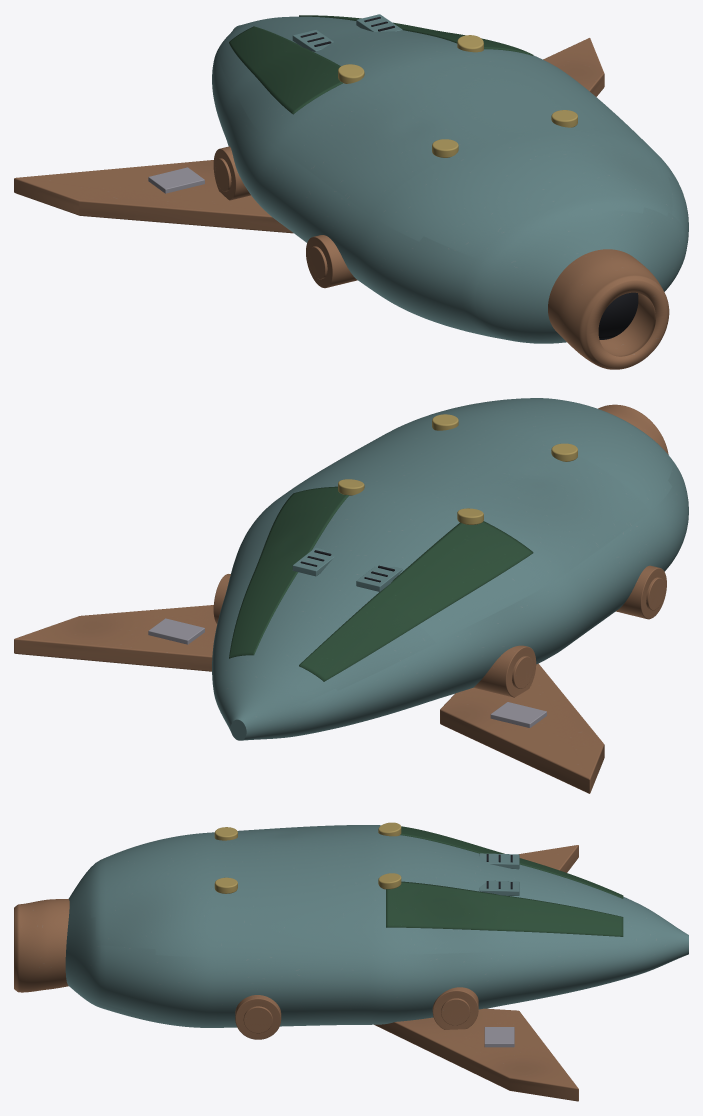
The picture shows the model from 3 angles, top to bottom: view 1: azimuth 30°, elevation 25°; view 2: azimuth 150°, elevation 25°; view 3: azimuth 270°, elevation 25°; orthographic projection. The views are drawn at different scales.
Parts seen in each view (by area): view 1: Messier-Lukannon flattened slate hull, Messier-Lukannon copper ventral wing -1, Messier-Lukannon copper terminal, RI2C green aft body field -1, Messier-Lukannon copper ventral wing 1, Messier-Lukannon side boss bezel -1 0, RI2C recessed dark terminal face, RI2C green aft body field 1, Messier-Lukannon ventral wing pad -1, Messier-Lukannon side boss bezel -1 1; view 2: Messier-Lukannon flattened slate hull, RI2C green aft body field -1, Messier-Lukannon copper ventral wing -1, Messier-Lukannon copper ventral wing 1, RI2C green aft body field 1, Messier-Lukannon side boss bezel -1 1, Messier-Lukannon side boss bezel -1 0, Messier-Lukannon copper terminal, Messier-Lukannon ventral wing pad -1, Messier-Lukannon ventral wing pad 1, Messier-Lukannon slate service cover -1, Messier-Lukannon slate service cover 1; view 3: Messier-Lukannon flattened slate hull, RI2C green aft body field 1, Messier-Lukannon copper ventral wing 1, Messier-Lukannon copper terminal, RI2C green aft body field -1, Messier-Lukannon side boss bezel 1 0, Messier-Lukannon side boss bezel 1 1, Messier-Lukannon copper ventral wing -1, Messier-Lukannon side boss face 1 1, Messier-Lukannon side boss face 1 0, Messier-Lukannon ventral wing pad 1, Messier-Lukannon slate service cover 1 (+1 smaller).
Boxes of the visible parts, x1,y1,x2,y2 form: Messier-Lukannon flattened slate hull: (212,16,688,343); Messier-Lukannon copper ventral wing -1: (14,160,293,233); Messier-Lukannon copper terminal: (548,249,669,369); RI2C green aft body field -1: (229,26,342,114); Messier-Lukannon copper ventral wing 1: (543,38,604,96); Messier-Lukannon side boss bezel -1 0: (306,235,357,288); RI2C recessed dark terminal face: (598,292,638,339); RI2C green aft body field 1: (299,15,533,55); Messier-Lukannon ventral wing pad -1: (148,167,204,193); Messier-Lukannon side boss bezel -1 1: (213,146,250,200); Messier-Lukannon flattened slate hull: (212,398,688,740); RI2C green aft body field -1: (299,521,533,681); Messier-Lukannon copper ventral wing -1: (440,663,604,793); Messier-Lukannon copper ventral wing 1: (14,605,216,671); RI2C green aft body field 1: (229,486,348,658); Messier-Lukannon side boss bezel -1 1: (474,645,536,697); Messier-Lukannon side boss bezel -1 0: (616,565,666,619); Messier-Lukannon copper terminal: (598,404,668,454); Messier-Lukannon ventral wing pad -1: (490,702,546,727); Messier-Lukannon ventral wing pad 1: (148,618,204,644); Messier-Lukannon slate service cover -1: (356,566,402,591); Messier-Lukannon slate service cover 1: (292,547,334,576); Messier-Lukannon flattened slate hull: (65,825,688,1027); RI2C green aft body field 1: (386,881,623,936); Messier-Lukannon copper ventral wing 1: (374,1008,578,1101); Messier-Lukannon copper terminal: (14,899,69,992); RI2C green aft body field -1: (400,826,623,898); Messier-Lukannon side boss bezel 1 0: (235,995,281,1039); Messier-Lukannon side boss bezel 1 1: (432,987,478,1029); Messier-Lukannon copper ventral wing -1: (519,845,578,872); Messier-Lukannon side boss face 1 1: (441,998,470,1025); Messier-Lukannon side boss face 1 0: (243,1006,272,1033); Messier-Lukannon ventral wing pad 1: (484,1027,514,1047); Messier-Lukannon slate service cover 1: (479,880,519,895).
Size of the model in its own units: 2.9 by 0.8362 by 3.38.
Materials: 6 (3 with a texture image).
